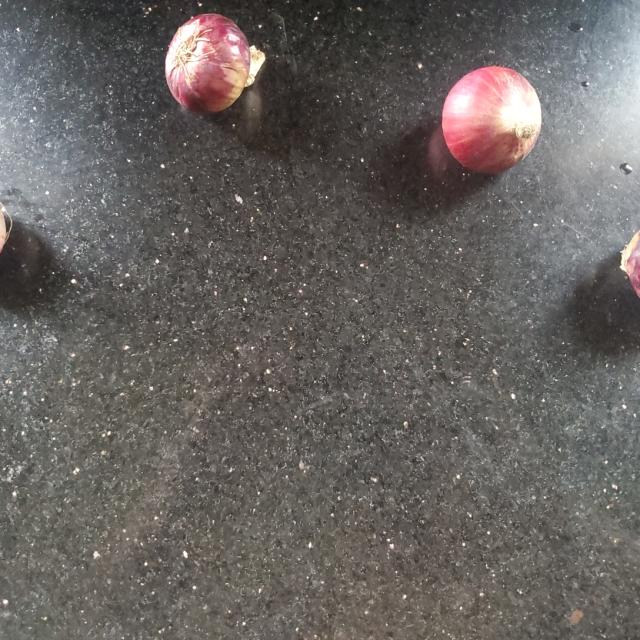onion: (442, 66, 544, 173), (165, 15, 263, 111)
